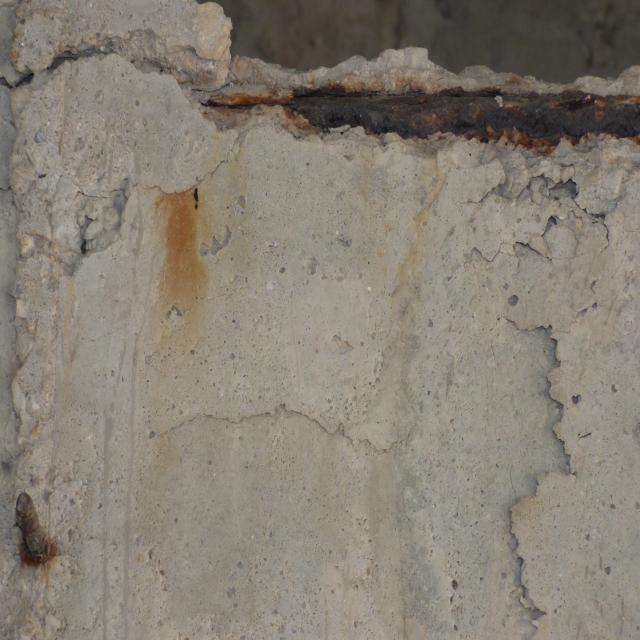corrosion: (199, 61, 640, 166), (354, 160, 447, 340), (146, 178, 220, 380), (4, 480, 66, 622)
